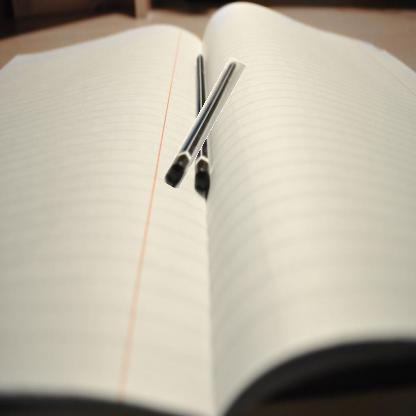Pen: (178, 55, 229, 191)
